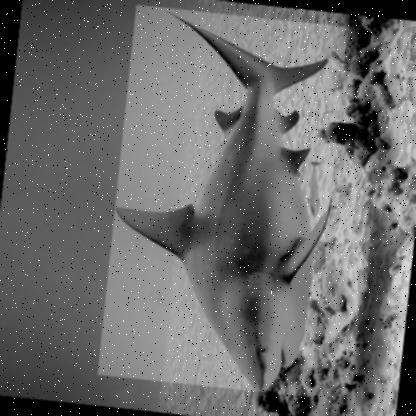bulldog-shark: (96, 4, 348, 396)
